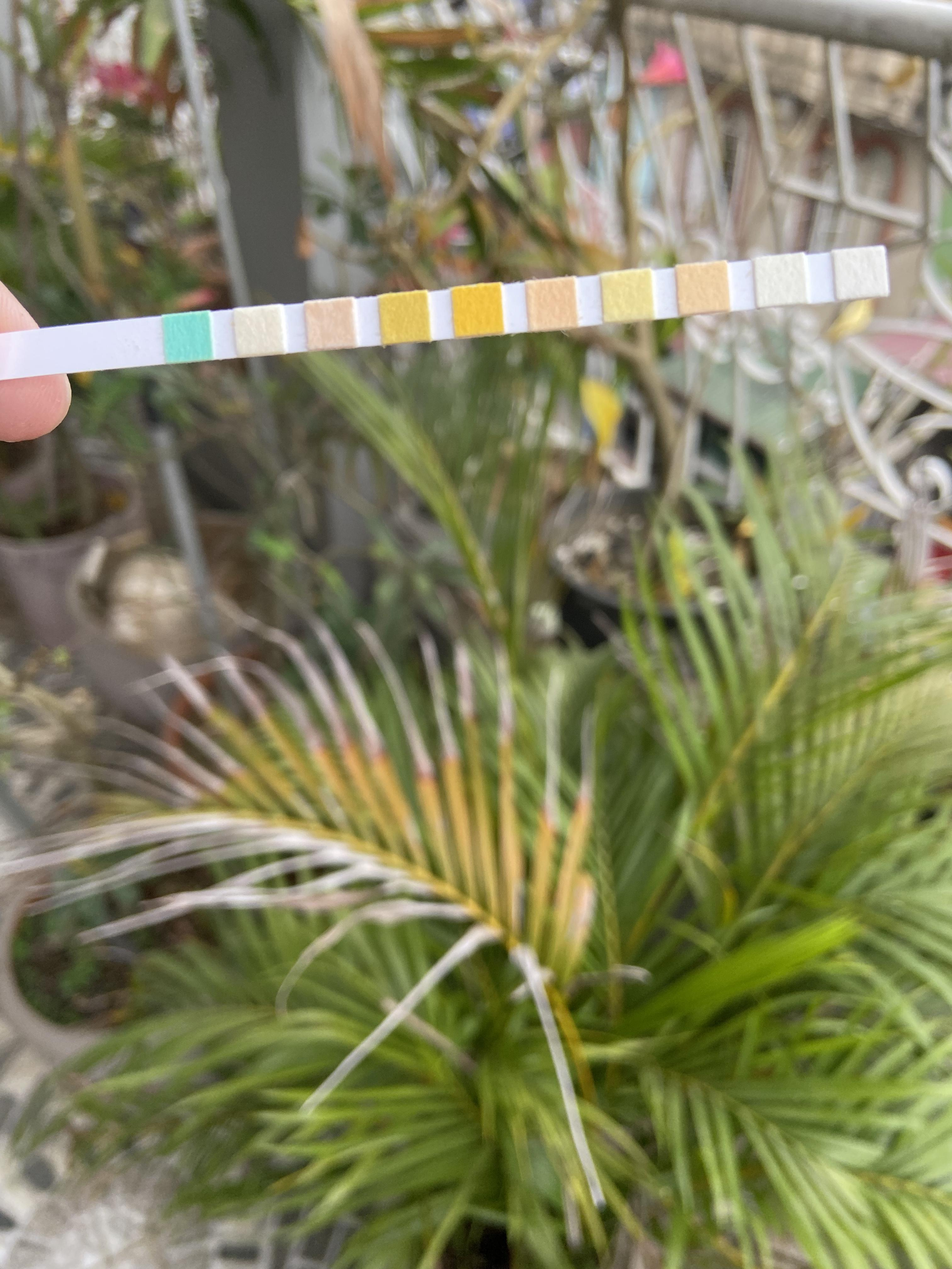Bilirubin: (234, 309, 281, 354)
Blood: (455, 287, 502, 331)
Glucose: (164, 316, 211, 360)
Ketone: (307, 302, 354, 347)
Leukocytes: (837, 250, 884, 295)
Nitrite: (756, 258, 803, 303)
Protein: (604, 274, 651, 318)
SpGravity: (380, 297, 427, 342)
Urobilinogen: (677, 265, 724, 310)
pH: (529, 283, 576, 328)
strip: (0, 246, 890, 381)
